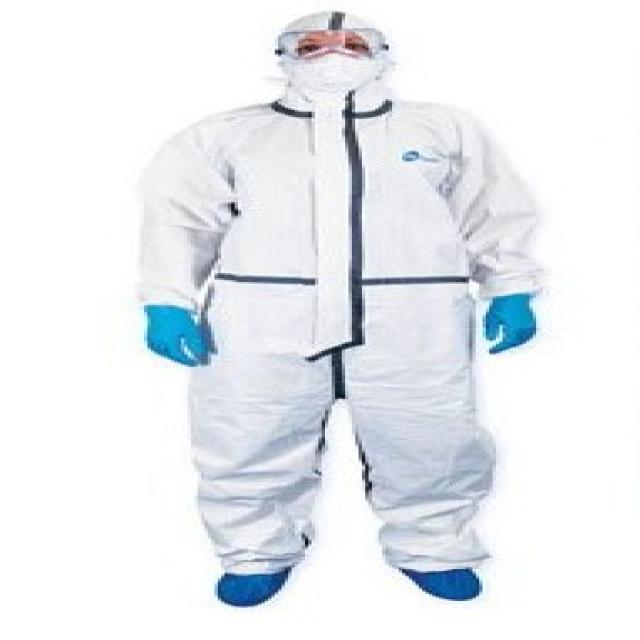Coverall: (117, 9, 563, 613)
Gloves: (134, 305, 214, 367), (479, 292, 540, 354)
Mask: (282, 53, 378, 85)
